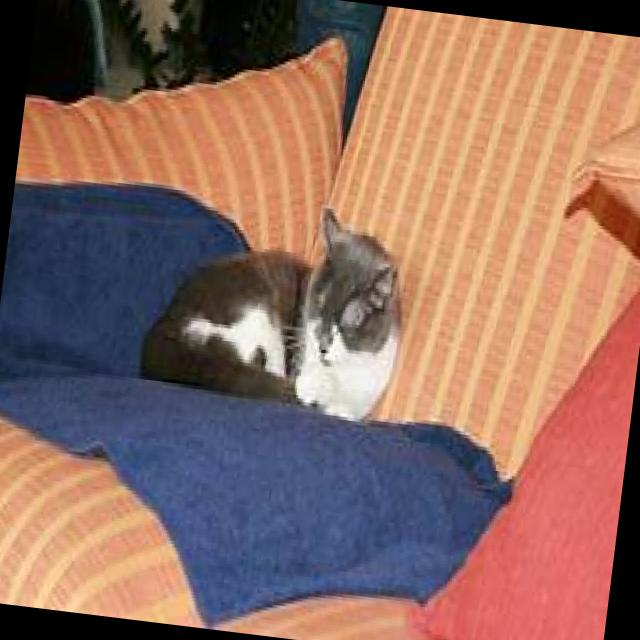animal: (135, 185, 414, 422)
